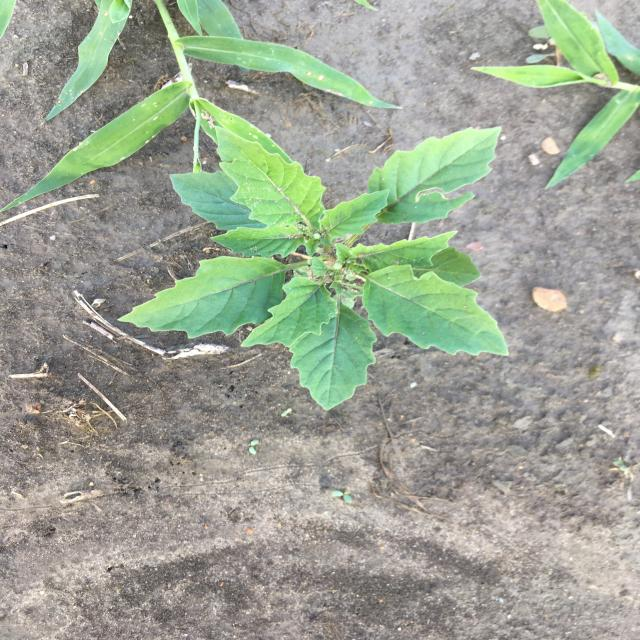CutleafGroundcherry: (113, 123, 513, 412)
